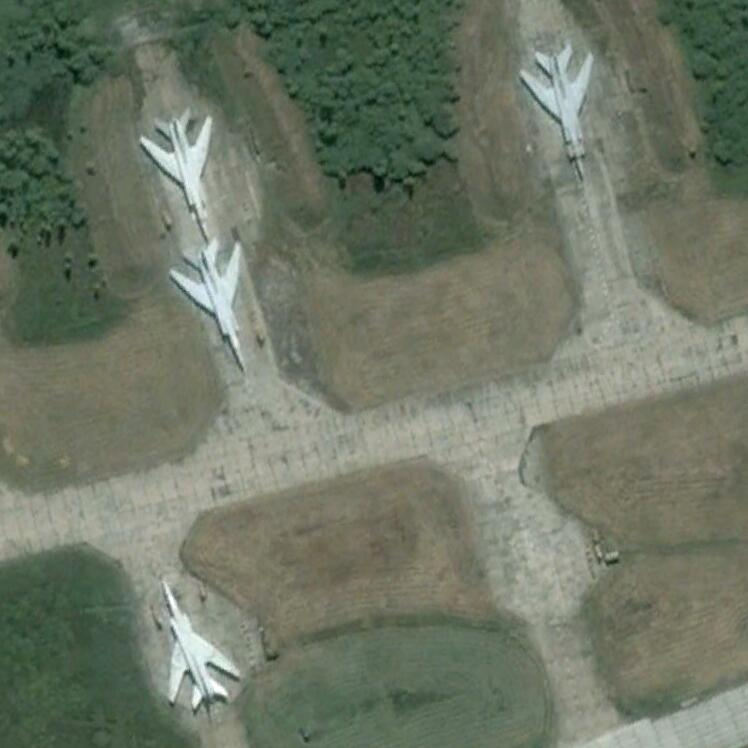A12: (152, 576, 241, 715), (515, 45, 605, 182), (168, 242, 253, 375), (137, 110, 219, 241)
